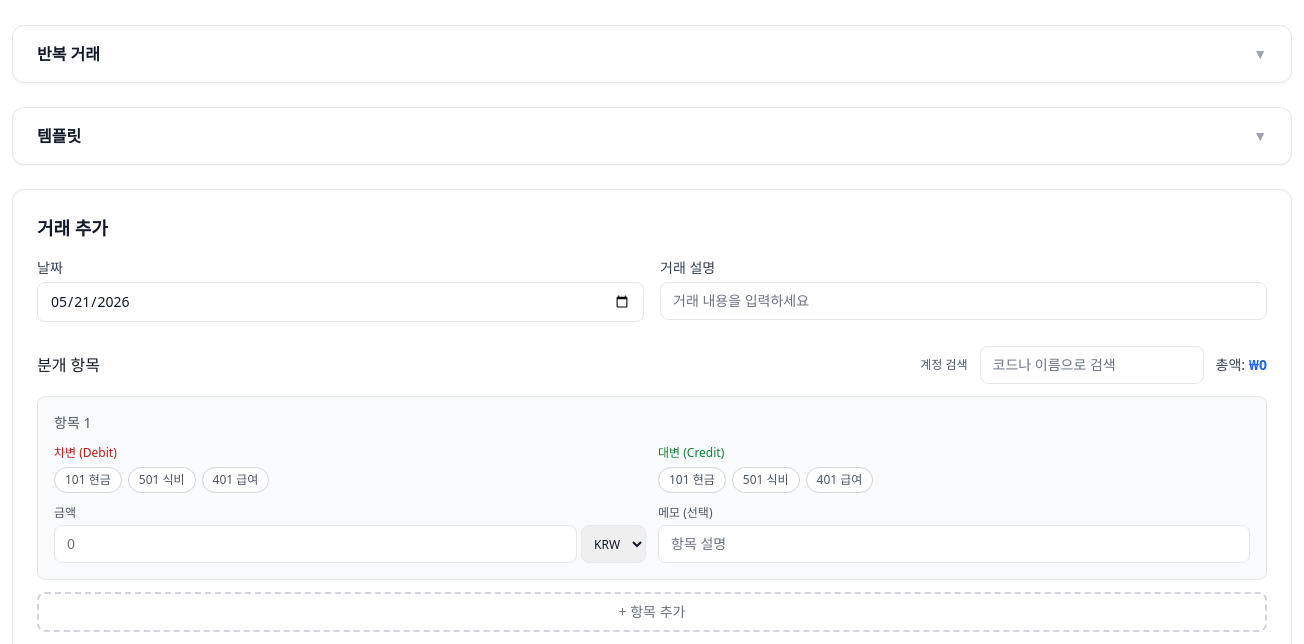
Test: RecurringTransactionsPage (반복 거래 탭) › 반복 거래 목록을 표시한다
Click the button "반복 거래 ▼" at [69, 54], box [13,26,1291,82]
(page scrolled)
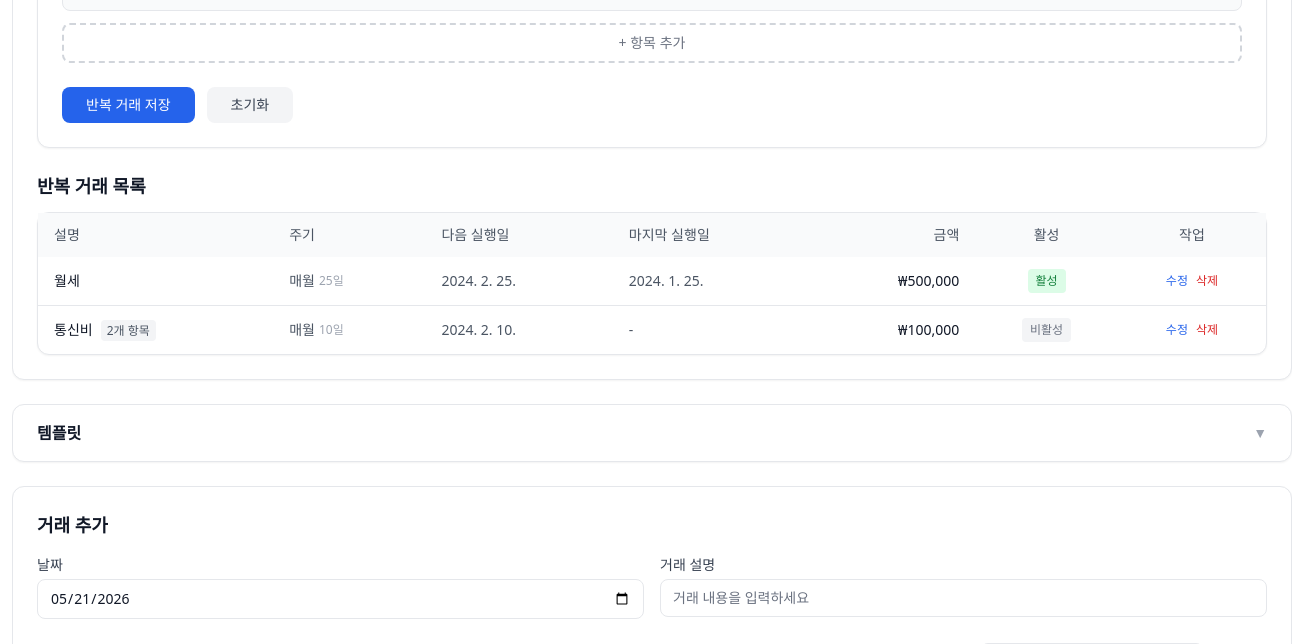
Result: the text "월세" is shown at [38,257,273,306]
Result: the text "통신비" is shown at [54,320,93,339]
